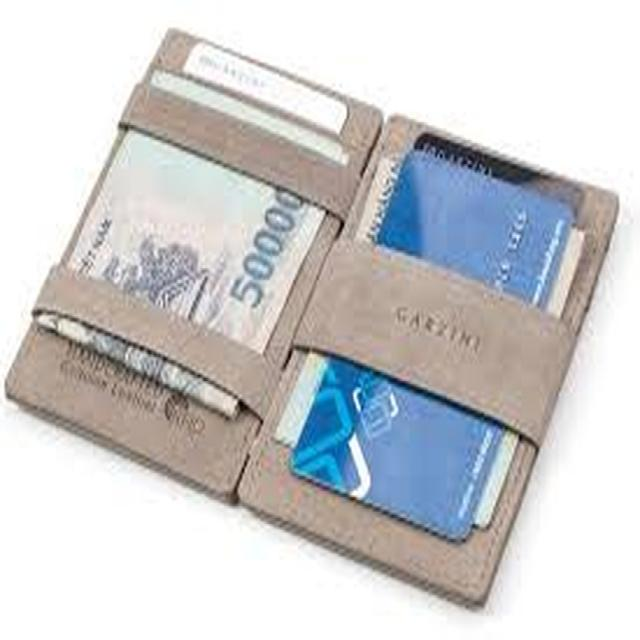card: (289, 111, 595, 586), (410, 58, 590, 360)
wallet: (3, 152, 619, 586)
